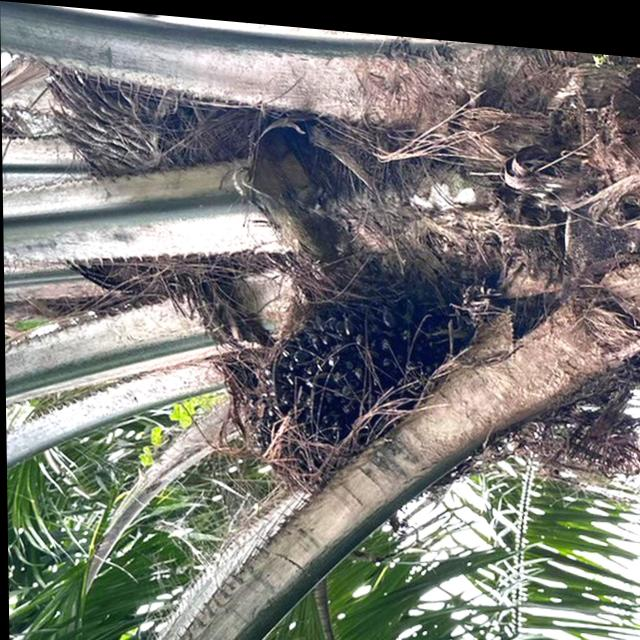unripe: (242, 259, 435, 494)
